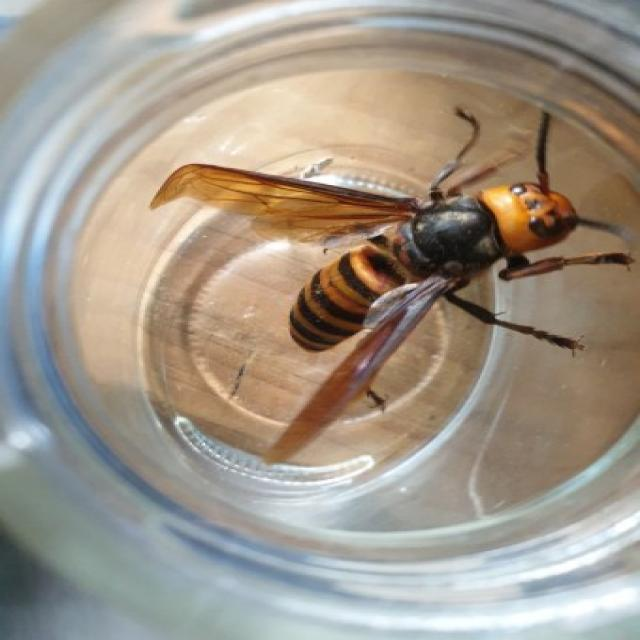Wasp: (158, 106, 632, 456)
